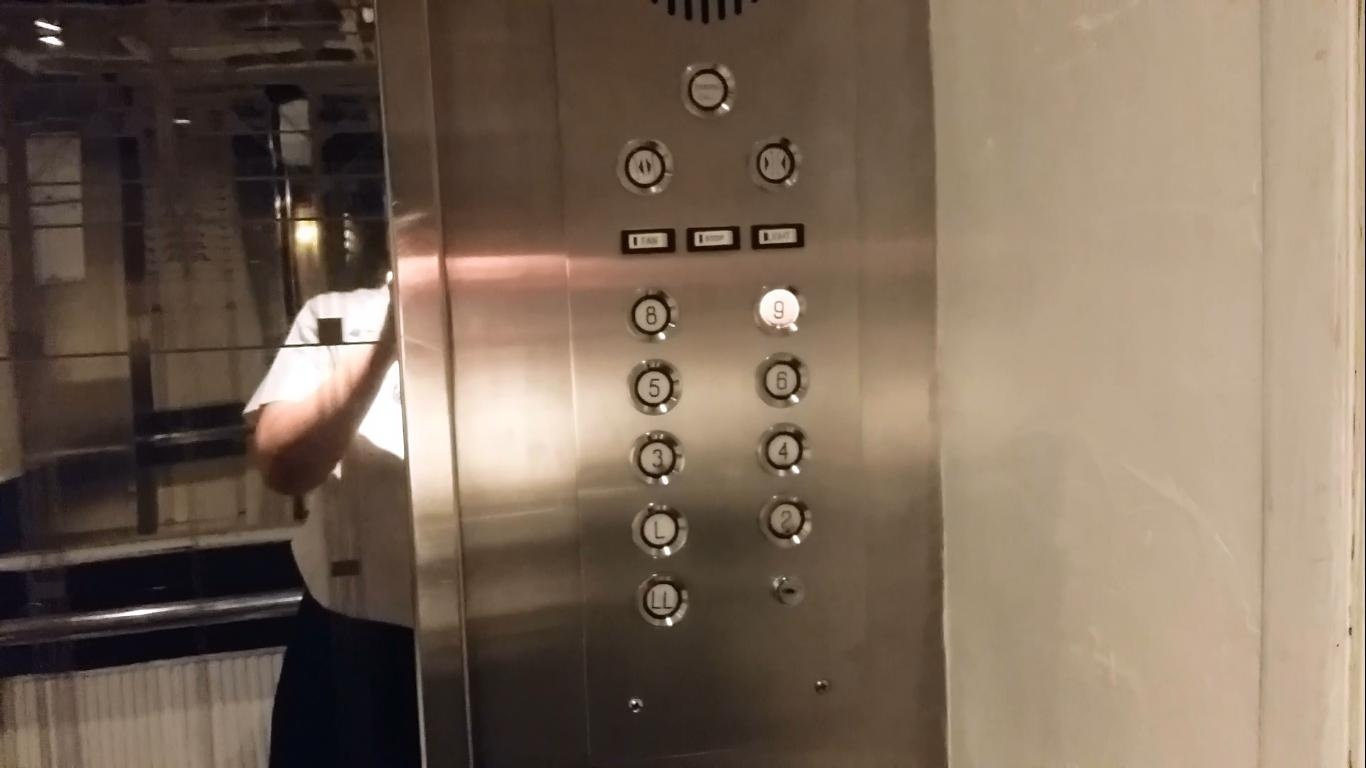2: (758, 495, 813, 549)
3: (627, 428, 687, 488)
4: (754, 421, 812, 477)
5: (626, 357, 682, 417)
6: (753, 351, 811, 409)
8: (623, 286, 681, 342)
9: (751, 284, 807, 337)
L: (631, 502, 689, 557)
LL: (635, 573, 691, 629)
blur: (620, 226, 677, 256), (686, 224, 742, 252), (751, 222, 806, 250)
close: (747, 135, 802, 193)
keyhole: (772, 574, 805, 610)
open: (615, 137, 674, 196)
text_blur: (679, 61, 737, 119)
